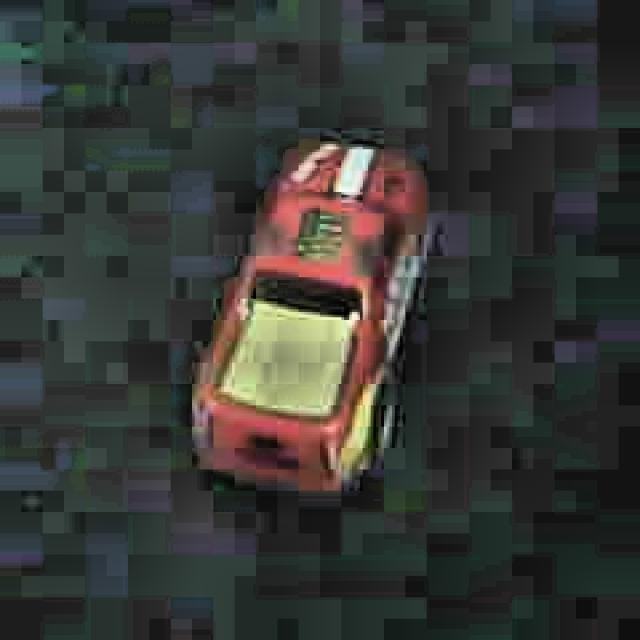car: (180, 133, 440, 511)
